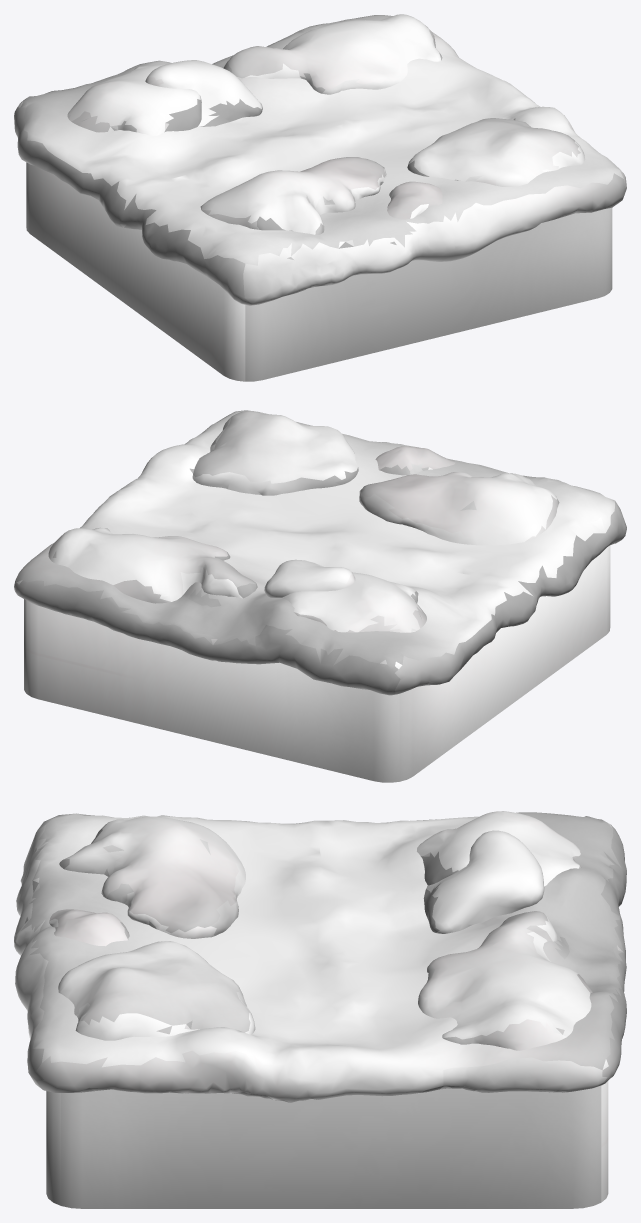
Rendered from StraightBlock.fbx.
3 renders of one model, top to bottom at view 1: azimuth 30°, elevation 25°; view 2: azimuth 150°, elevation 25°; view 3: azimuth 270°, elevation 25°, orthographic. The views are drawn at different scales.
Parts seen in each view (by area): view 1: StraightBlock; view 2: StraightBlock; view 3: StraightBlock.
Boxes of the visible parts, bbox=[...] form: StraightBlock: bbox=[14, 14, 626, 381]; StraightBlock: bbox=[14, 410, 626, 782]; StraightBlock: bbox=[14, 811, 626, 1208].
Bounding box in the file's own units: 327 × 118 × 322.
